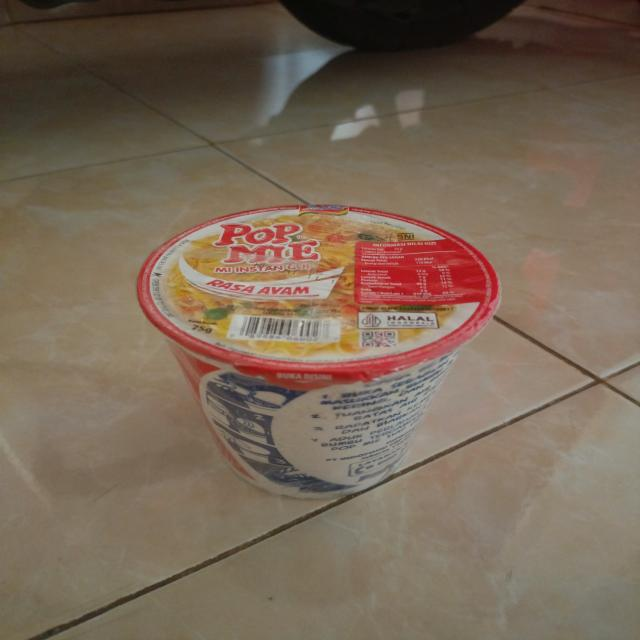popmie-rasa-ayam: (137, 200, 502, 499)
